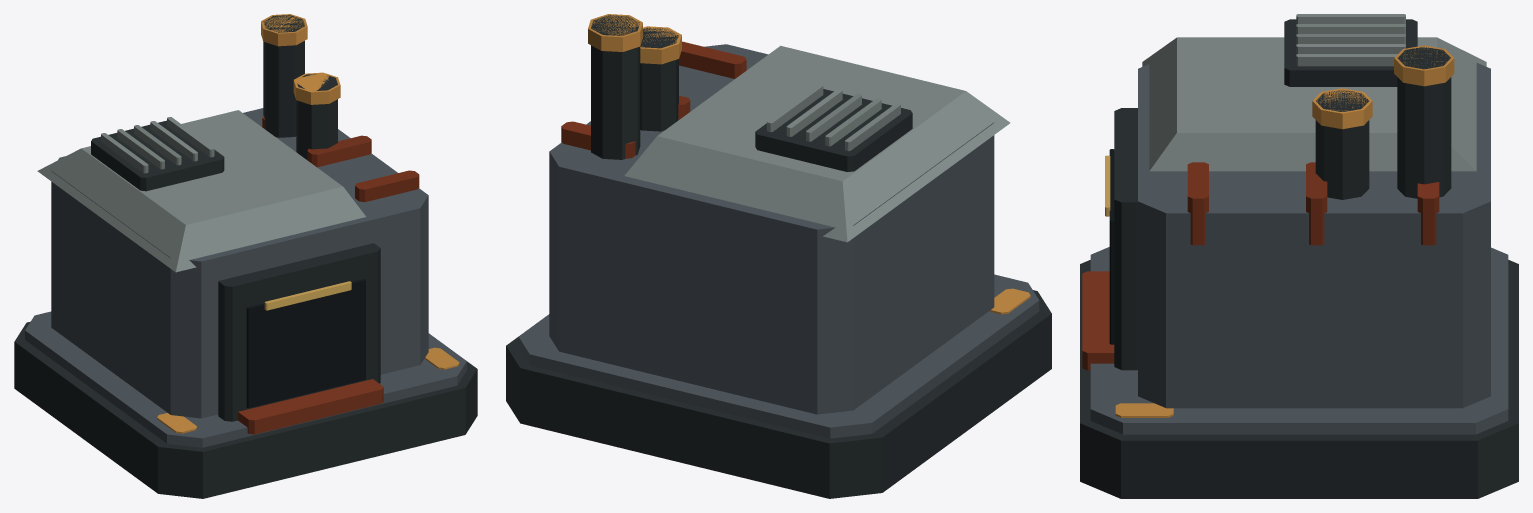
Rendered from tank_factory.glb.
The picture shows the model from 3 angles, left to right: view 1: azimuth 30°, elevation 25°; view 2: azimuth 150°, elevation 25°; view 3: azimuth 270°, elevation 25°; orthographic projection. The views are drawn at different scales.
Parts seen in each view (by area): view 1: tank_factory; view 2: tank_factory; view 3: tank_factory.
Boxes of the visible parts, left/top/right/bottom form: tank_factory: left=14, top=14, right=477, bottom=498; tank_factory: left=506, top=14, right=1051, bottom=498; tank_factory: left=1080, top=14, right=1518, bottom=498.
Size of the model in its own units: 2.13 by 2.04 by 2.04.
